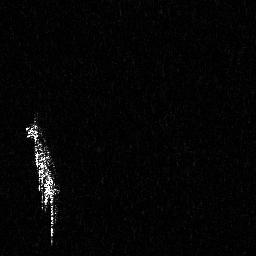ship: (24, 110, 63, 248)
